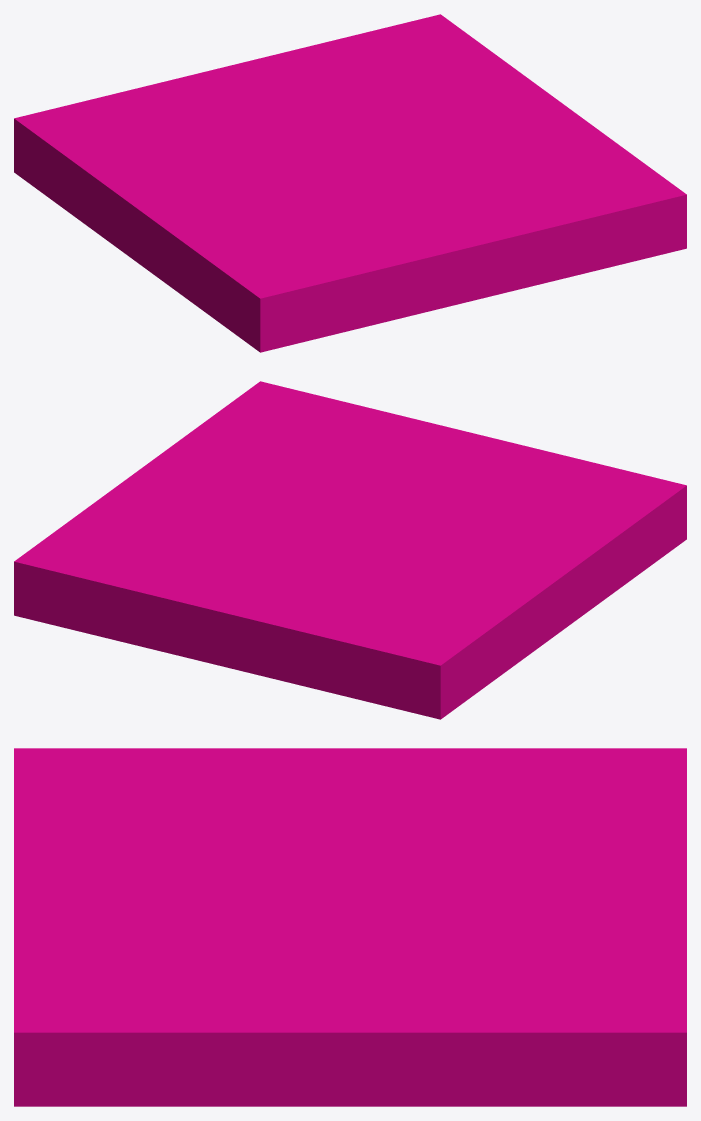
The model's file is trippyfloor.fbx.
The picture shows the model from 3 angles, top to bottom: view 1: azimuth 30°, elevation 25°; view 2: azimuth 150°, elevation 25°; view 3: azimuth 270°, elevation 25°; orthographic projection. The views are drawn at different scales.
Visible parts, largest first — view 1: Cube.002; view 2: Cube.002; view 3: Cube.002.
Part boxes in pixels (box(x1,y1,x2,y2)): Cube.002: box(14, 14, 686, 352); Cube.002: box(14, 381, 686, 719); Cube.002: box(14, 748, 686, 1106).
Bounding box in the file's own units: 1000 × 121 × 1000.
